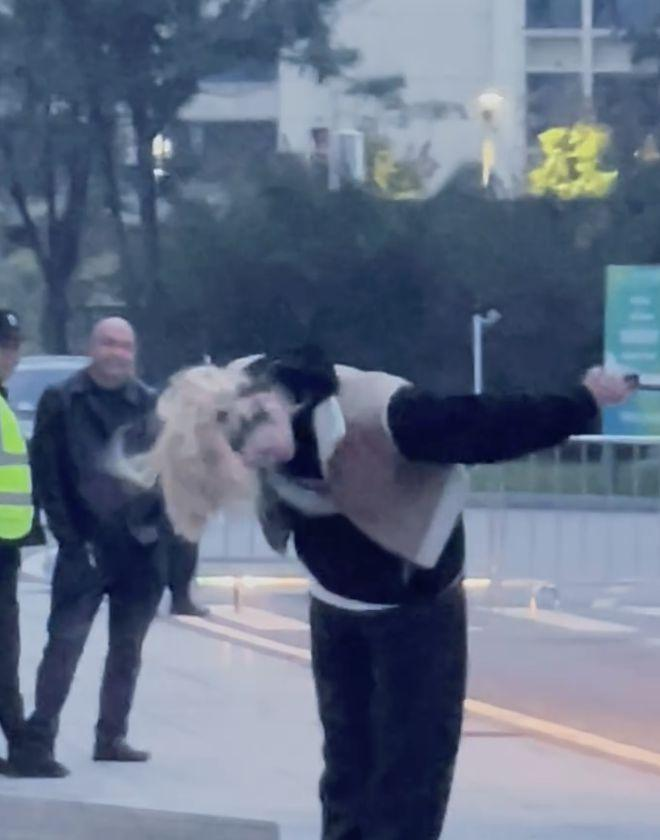bending: (168, 349, 530, 840)
up: (41, 316, 168, 783)
